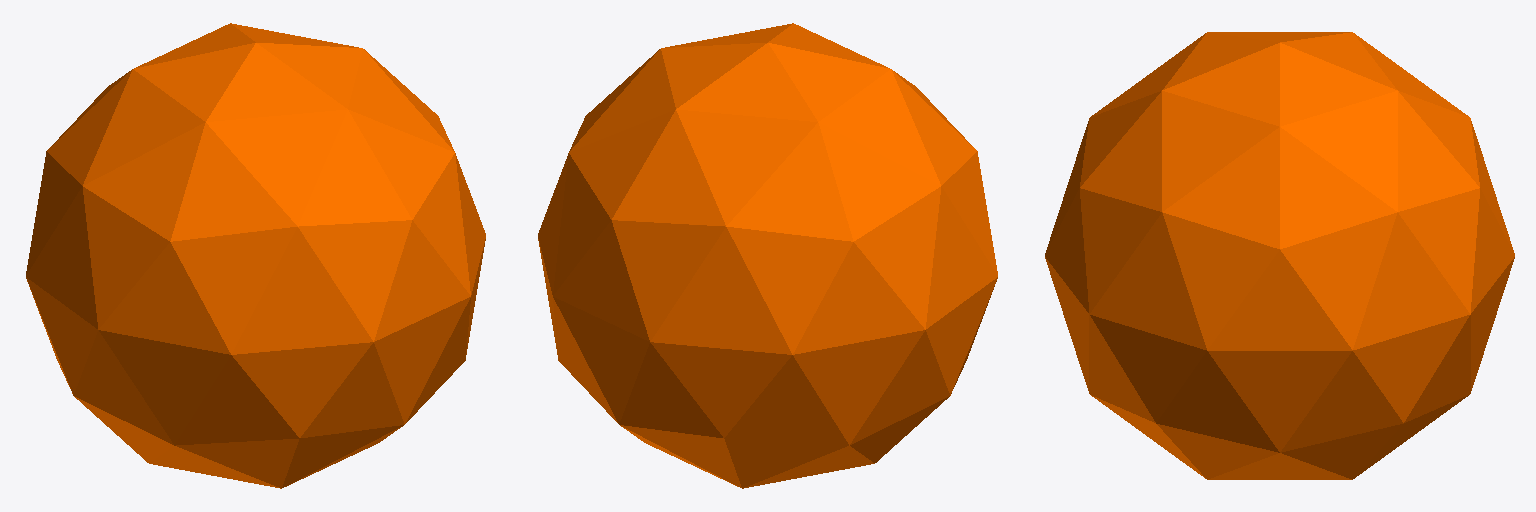
The picture shows the model from 3 angles: view 1: azimuth 30°, elevation 25°; view 2: azimuth 150°, elevation 25°; view 3: azimuth 270°, elevation 25°; orthographic projection.
Parts seen in each view (by area): view 1: ICO球; view 2: ICO球; view 3: ICO球.
Part boxes in pixels (left/top/right/bottom): ICO球: left=26, top=23, right=485, bottom=488; ICO球: left=538, top=23, right=997, bottom=488; ICO球: left=1045, top=32, right=1514, bottom=479.
Size of the model in its own units: 1.9 by 2 by 2.
Materials: 1 (1 with a texture image).